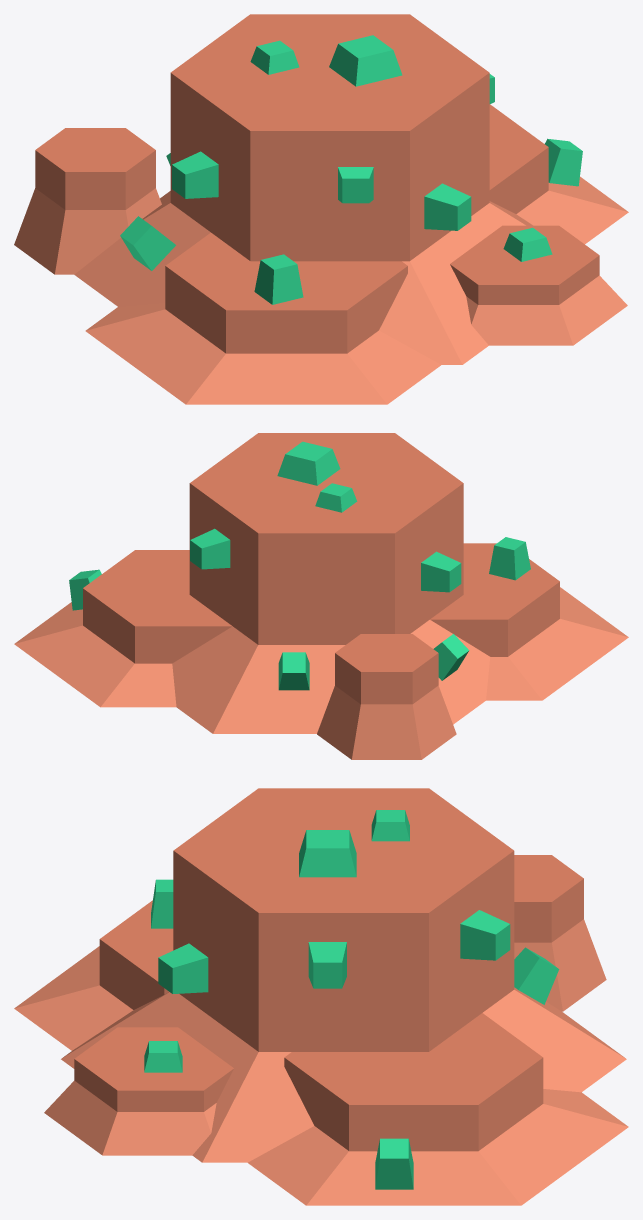
Rendered from rock_crystals.obj.
The picture shows the model from 3 angles, top to bottom: view 1: azimuth 30°, elevation 25°; view 2: azimuth 150°, elevation 25°; view 3: azimuth 270°, elevation 25°; orthographic projection. The views are drawn at different scales.
Visible parts, largest first — view 1: rock_crystals; view 2: rock_crystals; view 3: rock_crystals.
Part boxes in pixels (x1,y1,x2,y2): rock_crystals: (14,14,628,404); rock_crystals: (14,433,628,759); rock_crystals: (14,788,628,1205).
Bounding box in the file's own units: 0.8509 × 0.3375 × 0.8015.
